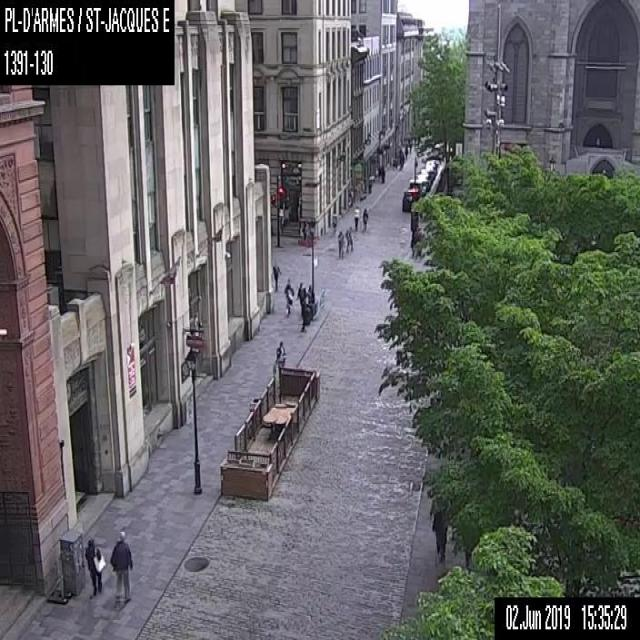pedestrian: (108, 528, 132, 602), (84, 539, 105, 596), (430, 509, 446, 567), (283, 276, 294, 317), (295, 281, 307, 316), (274, 339, 284, 367), (271, 261, 280, 291), (344, 224, 353, 253), (336, 229, 345, 258), (462, 546, 472, 568), (361, 206, 368, 232), (353, 205, 359, 230), (380, 165, 386, 183), (403, 145, 408, 160)
vehicle: (401, 187, 419, 212), (407, 178, 425, 198), (416, 173, 430, 190)
